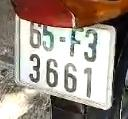1: (81, 64, 96, 100)
3: (83, 27, 100, 63), (27, 53, 43, 85)
5: (43, 21, 58, 52)
6: (62, 61, 79, 93), (44, 58, 60, 89), (29, 19, 43, 49)
F: (67, 24, 84, 59)
